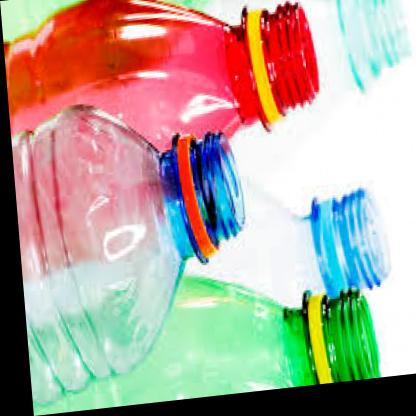Plastic: (0, 0, 416, 416), (7, 96, 252, 400)
